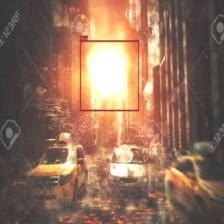fire: (79, 40, 139, 111)
